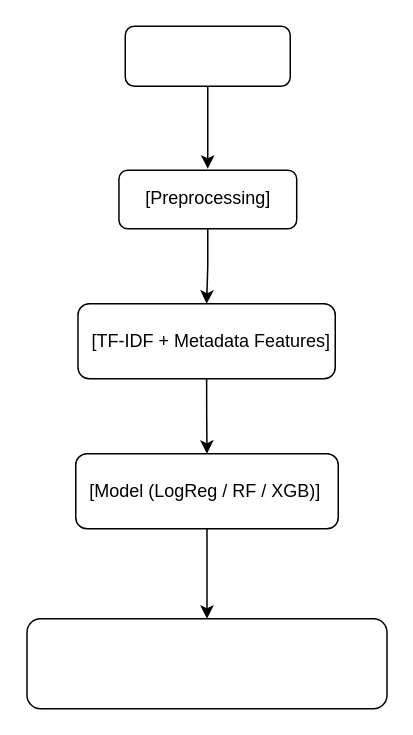
This 413x735 diagram has some shape labels left out. Each missing label, with the centre of its shape:
[ Dataset]: (207,55)
[Evaluasi: Accuracy, F1-score, Conf Matrix]: (206,663)
